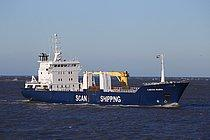Ship: (19, 28, 195, 111)
